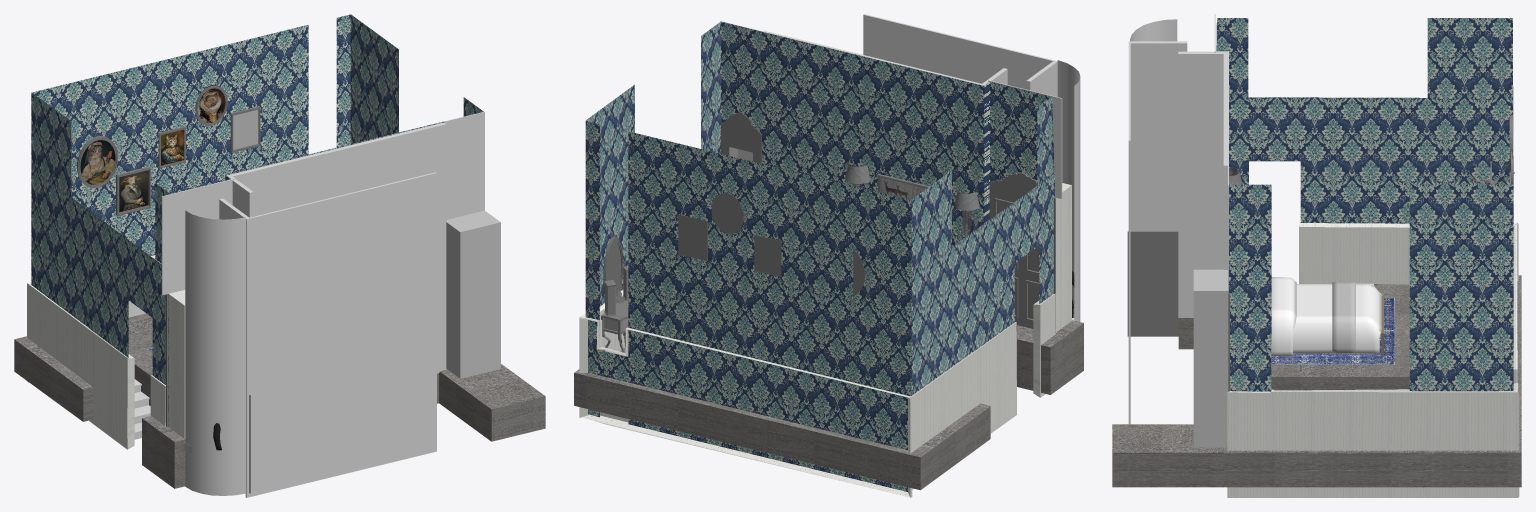
The model's file is player_room 1.fbx.
The picture shows the model from 3 angles, left to right: view 1: azimuth 30°, elevation 25°; view 2: azimuth 150°, elevation 25°; view 3: azimuth 270°, elevation 25°; orthographic projection. The views are drawn at different scales.
Visible parts, largest first — view 1: Cube.015, Cube.003, Stairs.001, Cube.008, Cube.036, Cube.013, Cube.040, Cube.009, Cube.014, Cube.030, Cube.042, Circle.014 (+5 smaller); view 2: Cube.015, Cube.008, Cube.040, Cube.042, Cube.003, Stairs.001, Cube.030, Cube.014, Circle.017, Cube.036, Cube.050, Circle.019; view 3: Cube.015, Cube.040, Cube.008, Cube.036, Cube.003, Cube.013, Plane.001, Cube.002, Cube.012, Plane, Plane.002, Stairs.001 (+1 smaller).
Boxes of the visible parts, left/top/right/bottom form: Cube.015: left=31, top=14, right=483, bottom=426; Cube.003: left=219, top=172, right=436, bottom=497; Stairs.001: left=185, top=210, right=245, bottom=495; Cube.008: left=14, top=313, right=545, bottom=488; Cube.036: left=227, top=122, right=446, bottom=373; Cube.013: left=446, top=210, right=500, bottom=378; Cube.040: left=27, top=255, right=165, bottom=449; Cube.009: left=444, top=111, right=484, bottom=219; Cube.014: left=161, top=179, right=234, bottom=295; Cube.030: left=168, top=290, right=185, bottom=438; Cube.042: left=77, top=85, right=260, bottom=426; Circle.014: left=80, top=140, right=115, bottom=184; Cube.015: left=585, top=21, right=1054, bottom=491; Cube.008: left=574, top=320, right=1083, bottom=490; Cube.040: left=579, top=290, right=1055, bottom=497; Cube.042: left=601, top=112, right=1055, bottom=352; Cube.003: left=863, top=14, right=1057, bottom=96; Stairs.001: left=1057, top=60, right=1080, bottom=321; Cube.030: left=1056, top=183, right=1071, bottom=332; Cube.014: left=988, top=80, right=1062, bottom=198; Circle.017: left=845, top=161, right=979, bottom=210; Cube.036: left=763, top=30, right=1007, bottom=85; Cube.050: left=882, top=178, right=926, bottom=199; Circle.019: left=606, top=236, right=621, bottom=297; Cube.015: left=1216, top=18, right=1513, bottom=391; Cube.040: left=1227, top=222, right=1519, bottom=497; Cube.008: left=1112, top=275, right=1521, bottom=487; Cube.036: left=1178, top=51, right=1228, bottom=317; Cube.003: left=1128, top=41, right=1187, bottom=424; Cube.013: left=1193, top=269, right=1228, bottom=447; Plane.001: left=1271, top=277, right=1383, bottom=356; Cube.002: left=1153, top=231, right=1178, bottom=336; Cube.012: left=1127, top=231, right=1153, bottom=336; Plane: left=1271, top=297, right=1394, bottom=364; Plane.002: left=1332, top=282, right=1355, bottom=352; Stairs.001: left=1130, top=19, right=1177, bottom=41.
Bounding box in the file's own units: 486 × 399 × 473.
